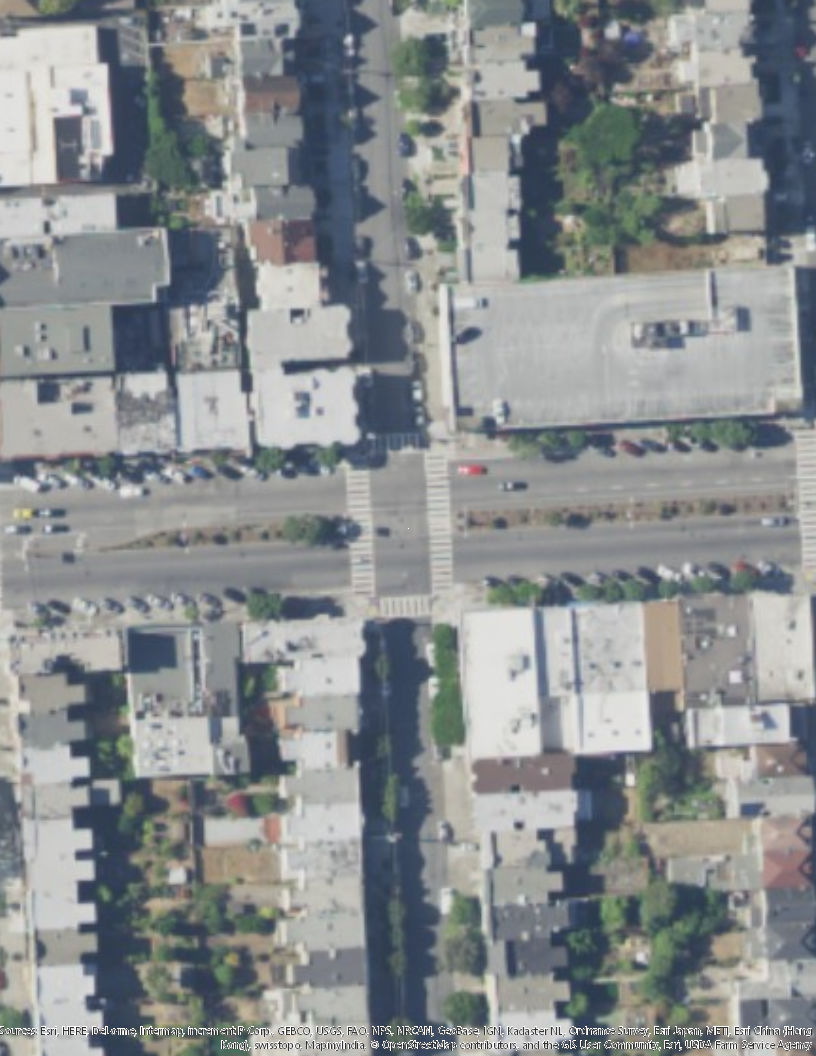zebracross: (421, 451, 457, 589), (347, 460, 378, 596), (794, 425, 816, 571), (379, 593, 433, 619), (370, 432, 432, 454)
